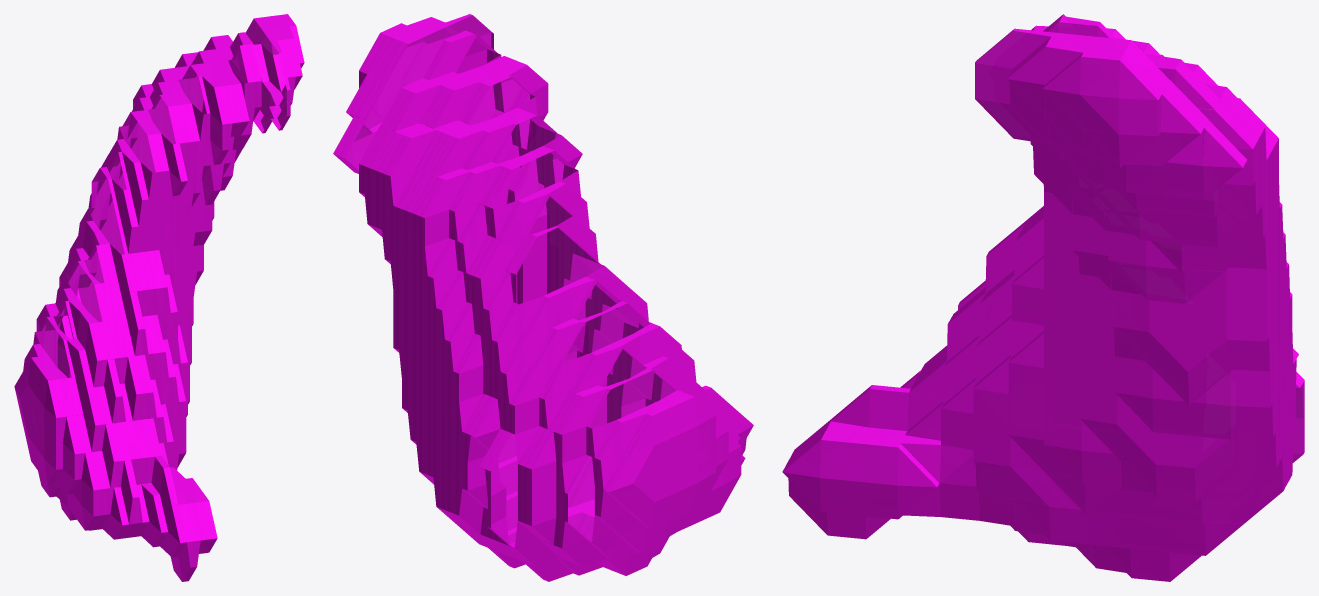
Rendered from SVV_Fragment14.gltf.
3 views of the same model, side by side, from view 1: azimuth 30°, elevation 25°; view 2: azimuth 150°, elevation 25°; view 3: azimuth 270°, elevation 25° (orthographic). The views are drawn at different scales.
Parts seen in each view (by area): view 1: Fragment14; view 2: Fragment14; view 3: Fragment14.
Boxes of the visible parts, left/top/right/bottom form: Fragment14: left=14, top=14, right=304, bottom=581; Fragment14: left=333, top=14, right=753, bottom=581; Fragment14: left=782, top=14, right=1304, bottom=581.
Size of the model in its own units: 7314 by 11206 by 8644.
